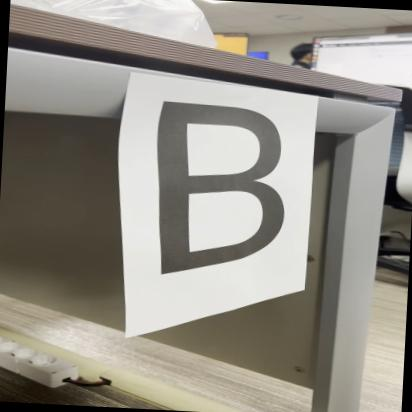seat: (99, 66, 338, 292)
